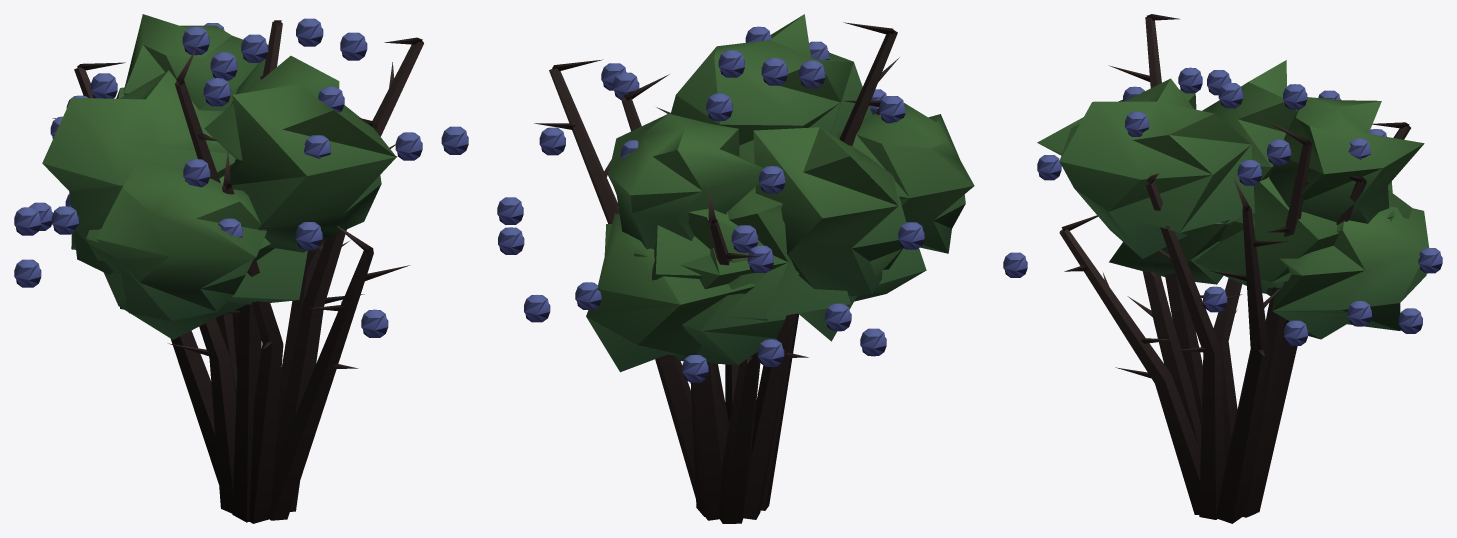
The model's file is blackthorn.glb.
The picture shows the model from 3 angles, left to right: view 1: azimuth 30°, elevation 25°; view 2: azimuth 150°, elevation 25°; view 3: azimuth 270°, elevation 25°; orthographic projection. The views are drawn at different scales.
Parts seen in each view (by area): view 1: blackthorn; view 2: blackthorn; view 3: blackthorn.
Part boxes in pixels (x1=…): blackthorn: x1=14, y1=14, x2=468, y2=523; blackthorn: x1=497, y1=14, x2=974, y2=523; blackthorn: x1=1003, y1=14, x2=1442, y2=523.
Size of the model in its own units: 0.8478 by 0.9953 by 0.8745.
